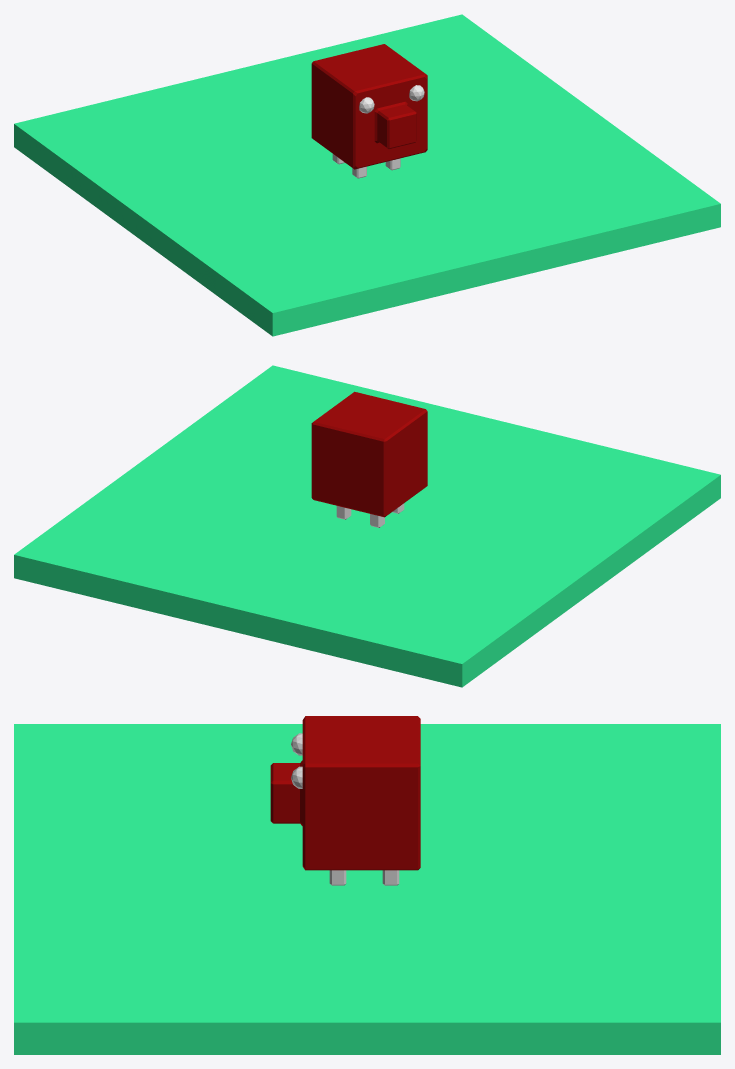
File: little_cube_pet.glb
The picture shows the model from 3 angles, top to bottom: view 1: azimuth 30°, elevation 25°; view 2: azimuth 150°, elevation 25°; view 3: azimuth 270°, elevation 25°; orthographic projection. The views are drawn at different scales.
Parts seen in each view (by area): view 1: Floor, Pet; view 2: Floor, Pet; view 3: Floor, Pet.
Boxes of the visible parts, box(x1,y1,x2,y2) form: Floor: box(14, 14, 720, 336); Pet: box(311, 44, 427, 169); Floor: box(14, 365, 720, 687); Pet: box(311, 391, 427, 517); Floor: box(14, 724, 720, 1054); Pet: box(270, 716, 420, 870).
Size of the model in its own units: 12 by 3.1 by 12.
